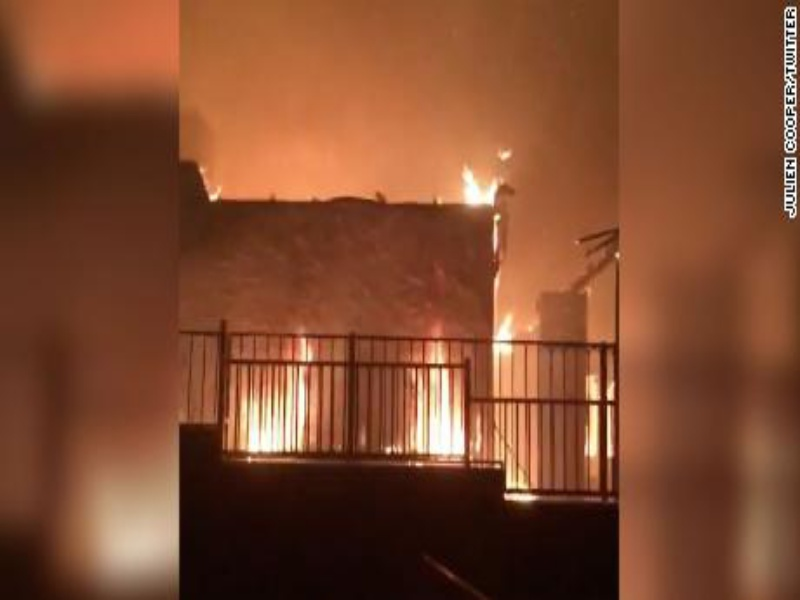fire: (401, 329, 474, 459), (244, 342, 321, 456), (458, 144, 505, 206), (495, 314, 522, 361)
